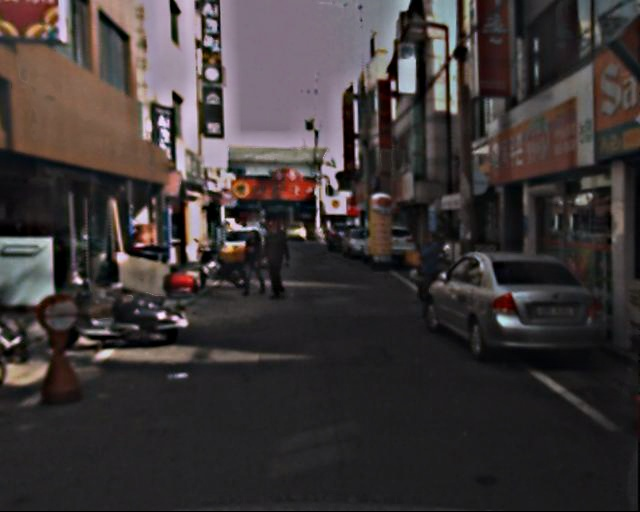person: (416, 228, 448, 321), (264, 217, 297, 306), (242, 225, 271, 300)
